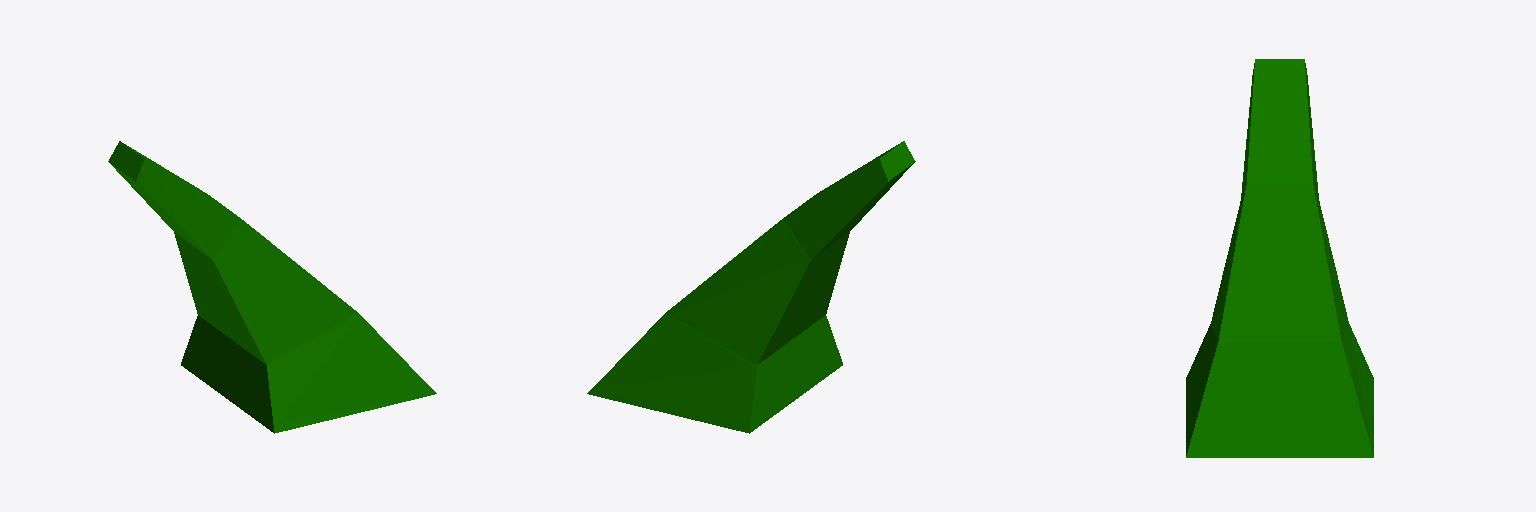
File: grassBlade.obj
The picture shows the model from 3 angles: view 1: azimuth 30°, elevation 25°; view 2: azimuth 150°, elevation 25°; view 3: azimuth 270°, elevation 25°; orthographic projection.
Visible parts, largest first — view 1: glassBlade; view 2: glassBlade; view 3: glassBlade.
Boxes of the visible parts, x1=… form: glassBlade: x1=108, y1=141, x2=436, y2=433; glassBlade: x1=587, y1=141, x2=915, y2=433; glassBlade: x1=1186, y1=59, x2=1373, y2=457.
Bounding box in the file's own units: 0.6752 × 0.6557 × 0.4093.